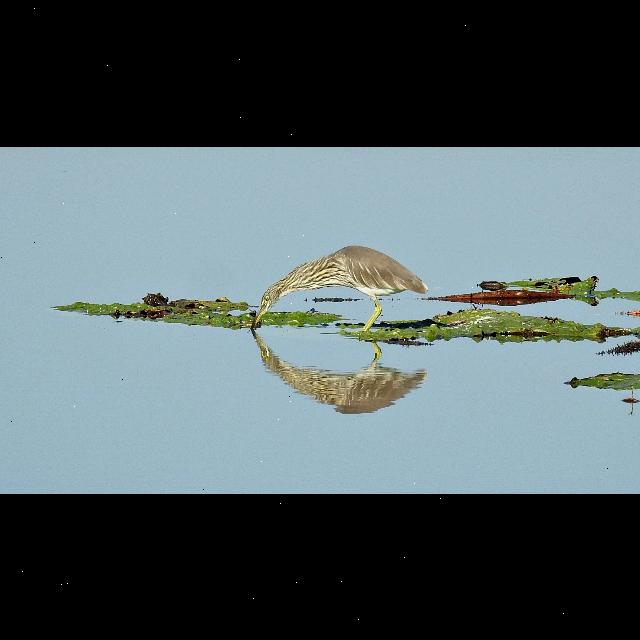heron: (240, 240, 430, 338)
